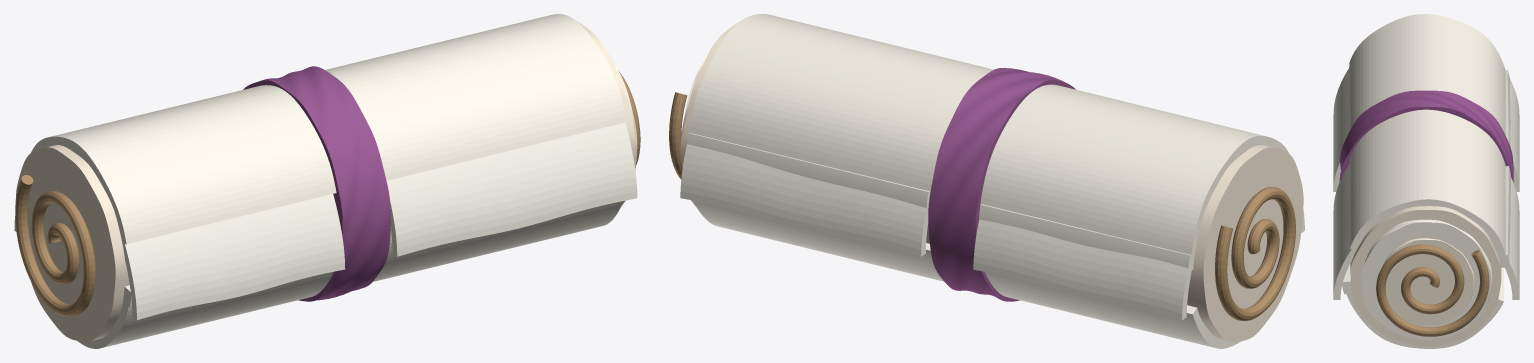
The model's file is ExperienceScroll.fbx.
3 views of the same model, side by side, from view 1: azimuth 30°, elevation 25°; view 2: azimuth 150°, elevation 25°; view 3: azimuth 270°, elevation 25° (orthographic). The views are drawn at different scales.
Parts seen in each view (by area): view 1: Outer parchment top fold, Front loose parchment right, Front loose parchment left, Central violet binding, Parchment body, Outer parchment underside fold, Left rolled spiral; view 2: Outer parchment top fold, Back loose parchment right, Central violet binding, Parchment body, Back loose parchment left, Outer parchment underside fold, Left rolled spiral, Top paper lip right, Top paper lip left, Right rolled spiral; view 3: Outer parchment top fold, Parchment body, Rolled end, Inner parchment curl, Right rolled spiral, Central violet binding, Front loose parchment right, Back loose parchment right, Front loose parchment left, Outer parchment underside fold, Back loose parchment left, Top paper lip right (+1 smaller).
Boxes of the visible parts, x1,y1,x2,y2 form: Outer parchment top fold: (31,14,626,244); Front loose parchment right: (386,122,637,256); Front loose parchment left: (105,188,345,320); Central violet binding: (243,66,390,301); Parchment body: (15,21,636,341); Outer parchment underside fold: (78,201,623,348); Left rolled spiral: (15,175,95,316); Outer parchment top fold: (689,14,1288,269); Back loose parchment right: (680,144,929,256); Central violet binding: (928,68,1075,301); Parchment body: (682,22,1303,341); Back loose parchment left: (973,188,1214,320); Outer parchment underside fold: (693,200,1241,348); Left rolled spiral: (1215,187,1295,320); Top paper lip right: (687,132,930,208); Top paper lip left: (979,204,1194,271); Right rolled spiral: (669,92,687,179); Outer parchment top fold: (1349,14,1505,267); Parchment body: (1350,206,1501,346); Rolled end: (1361,219,1492,339); Inner parchment curl: (1383,238,1474,325); Right rolled spiral: (1376,244,1489,336); Central violet binding: (1339,90,1513,182); Front loose parchment right: (1333,164,1382,299); Back loose parchment right: (1471,177,1519,299); Front loose parchment left: (1333,68,1349,191); Outer parchment underside fold: (1344,264,1504,348); Back loose parchment left: (1510,79,1519,191); Top paper lip right: (1502,166,1510,267).
Size of the model in its own units: 277 by 99.84 by 106.
